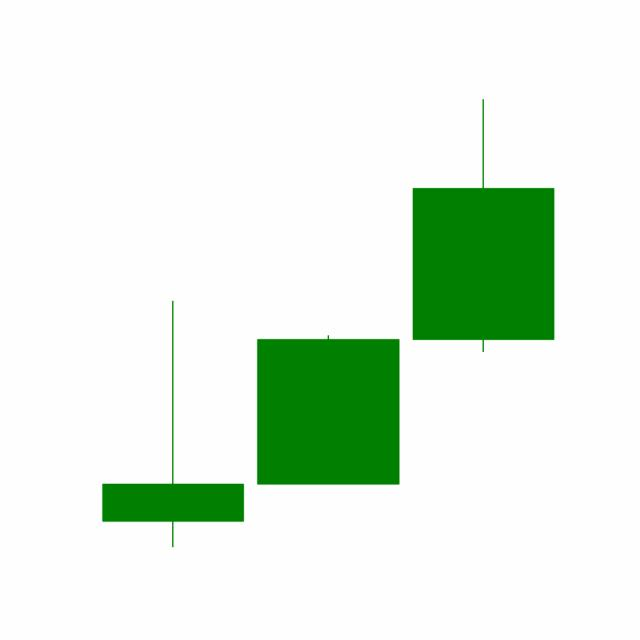Marubozu: (249, 332, 406, 485)
